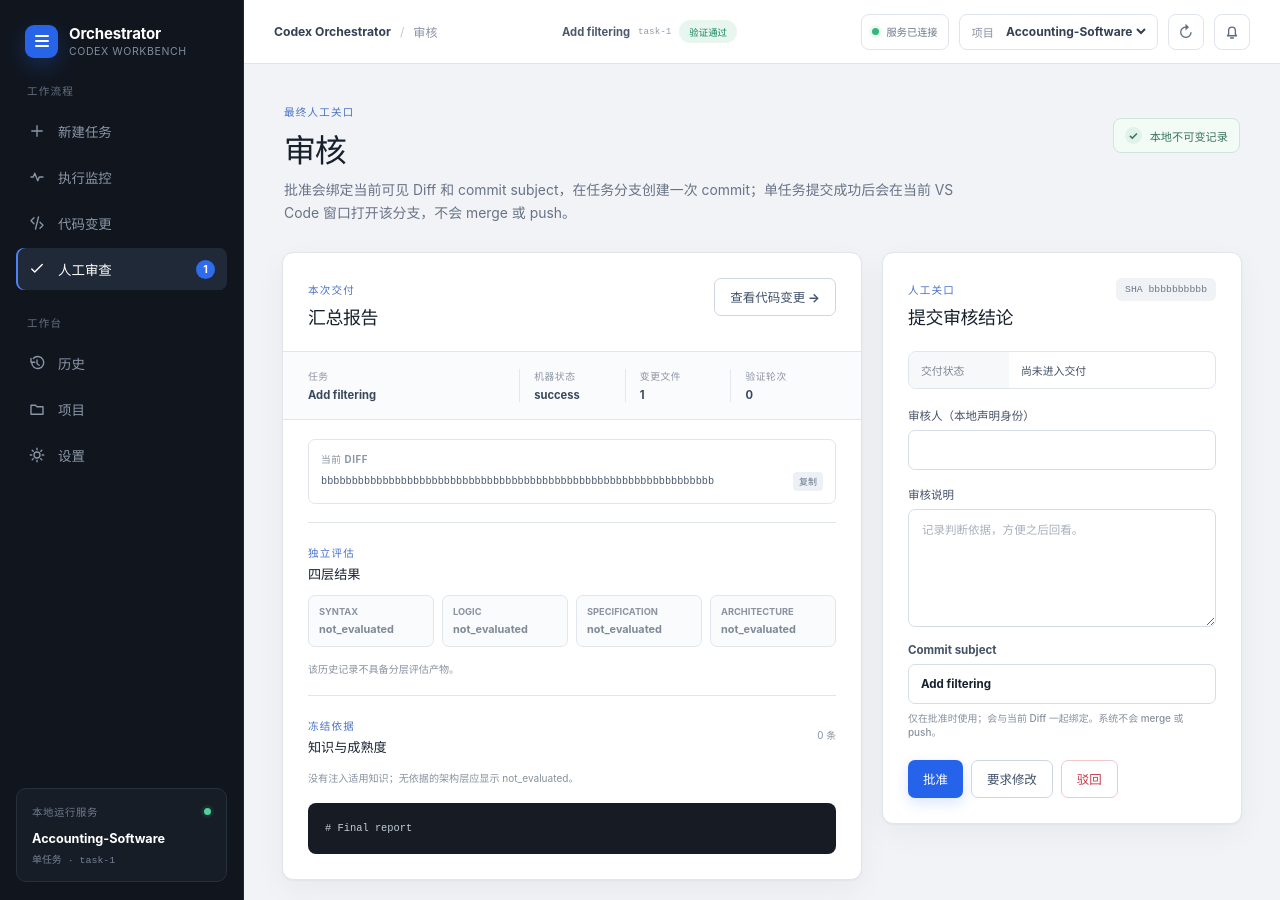
Scenario: App workbench › keeps an approved review successful when VS Code cannot be opened
The image size is (1280, 900).
In the field with test id "reviewer": (1062, 450) top-left (908, 430), bottom-right (1216, 470), type "Local Reviewer"
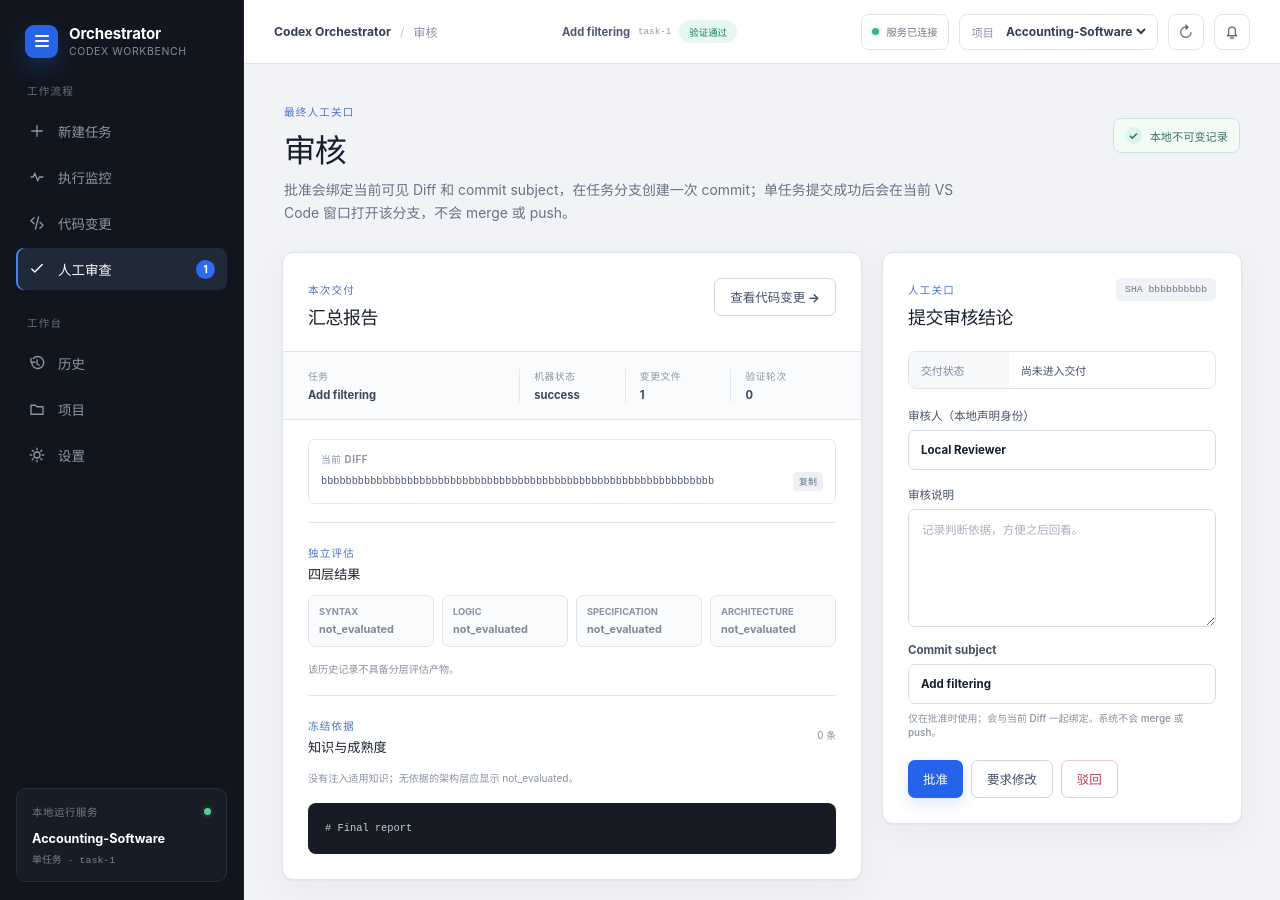
Click the button with test id "approve": (936, 779) top-left (908, 760), bottom-right (963, 798)
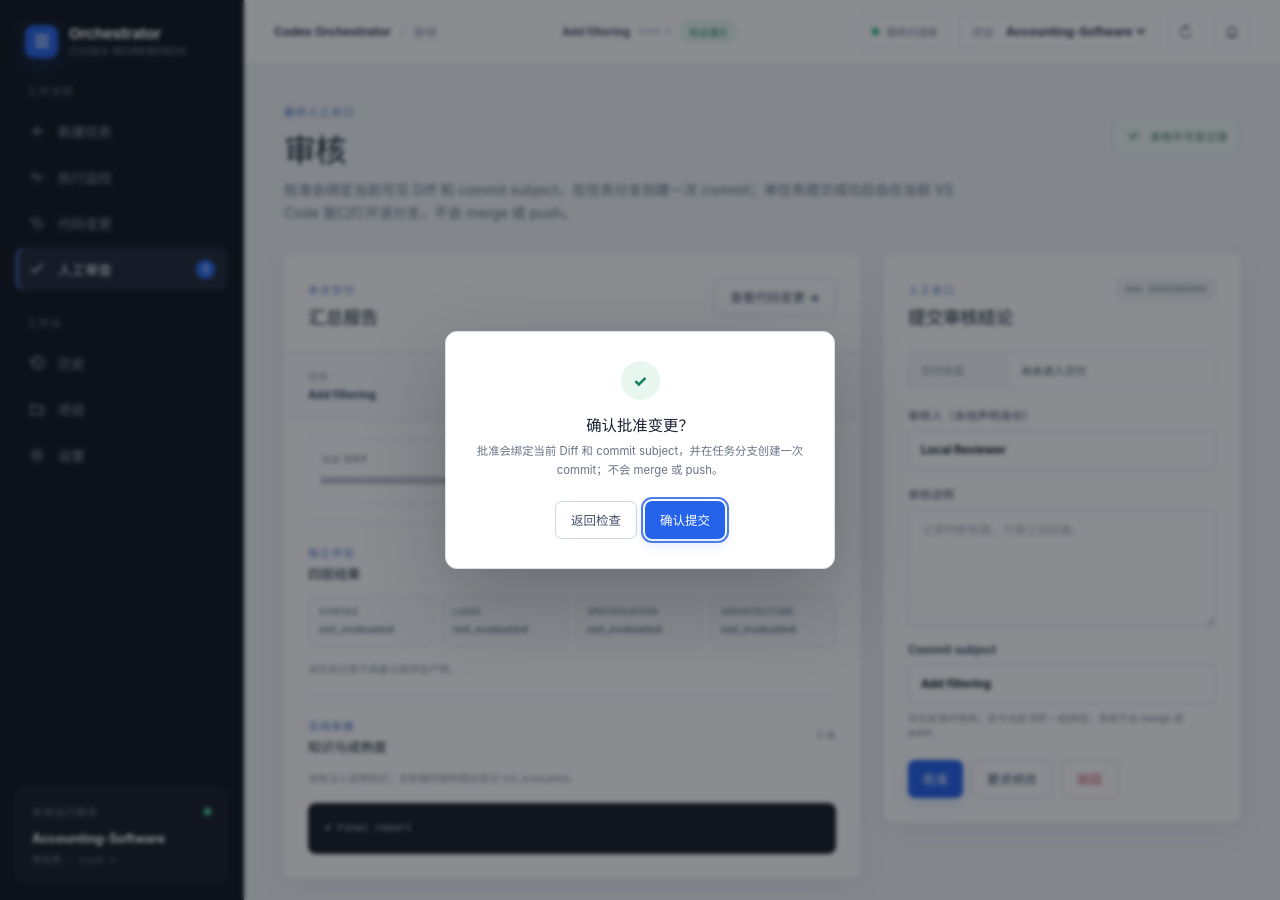
Click the button with test id "confirm-review": (685, 520) top-left (645, 501), bottom-right (725, 539)
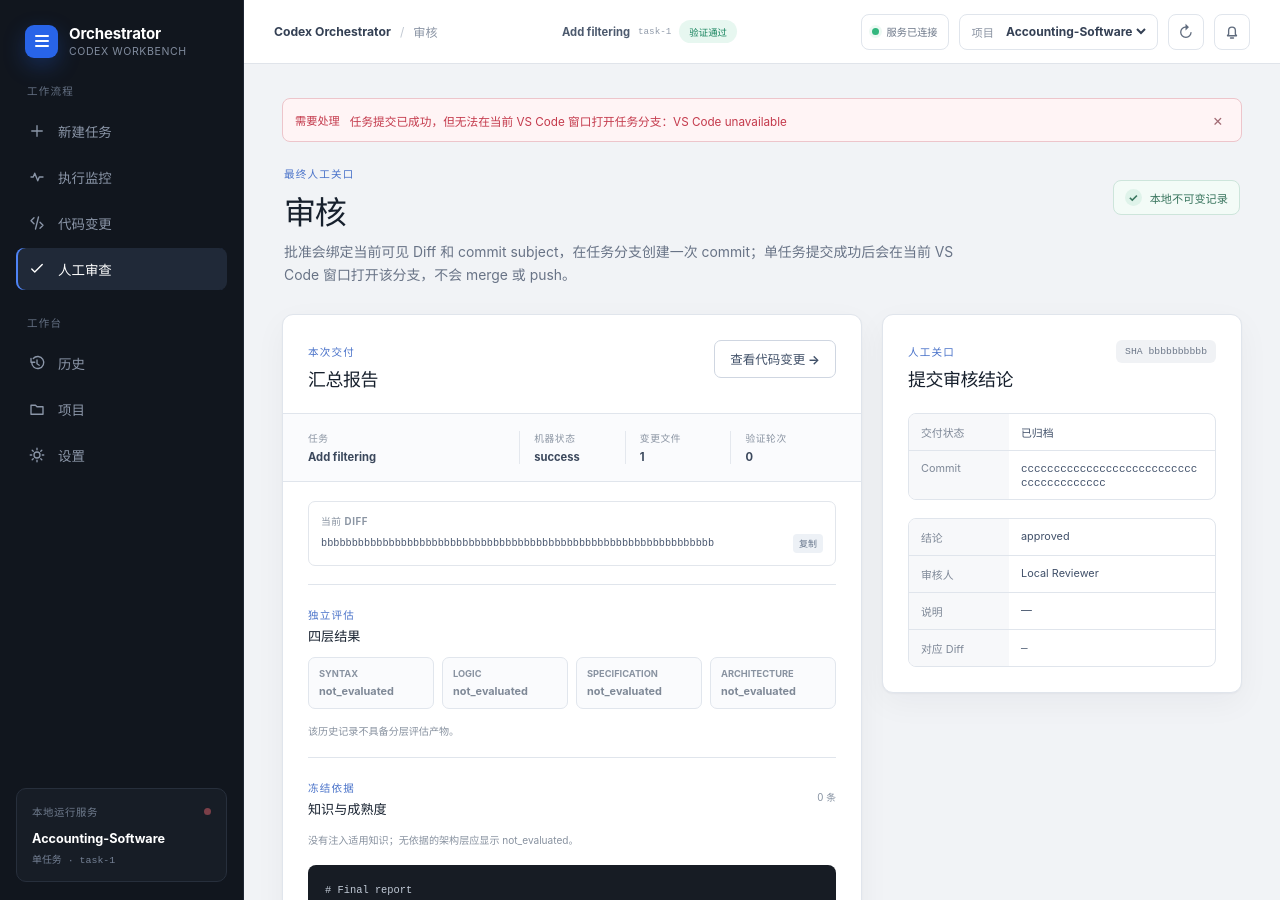
Expected: the element with test id "review-panel" shows "Local Reviewer", top-left (1021, 566), bottom-right (1099, 580)
Expected: the message "需要处理 任务提交已成功，但无法在当前 VS Code 窗口打开任务分支：VS Code unavailable ×" is shown, top-left (282, 98), bottom-right (1242, 142)
